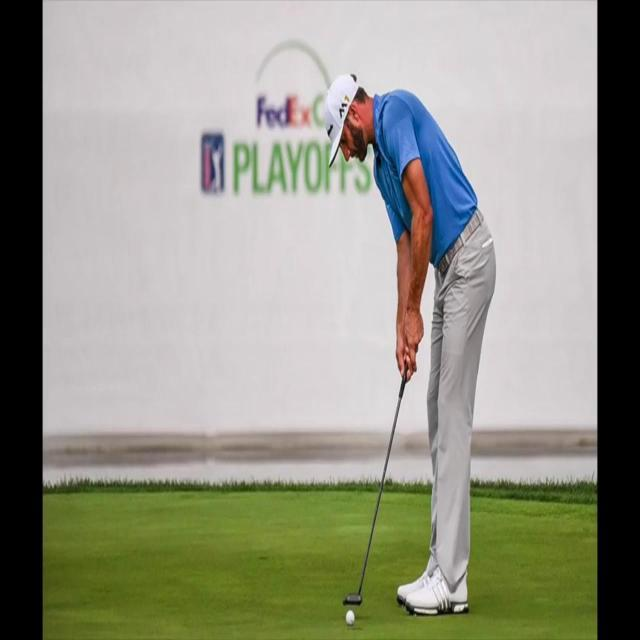GolfBall: (340, 602, 358, 630)
